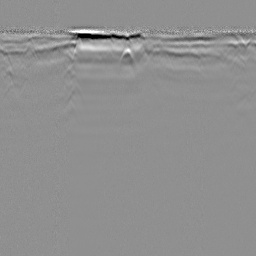cavity: (115, 46, 136, 67)
